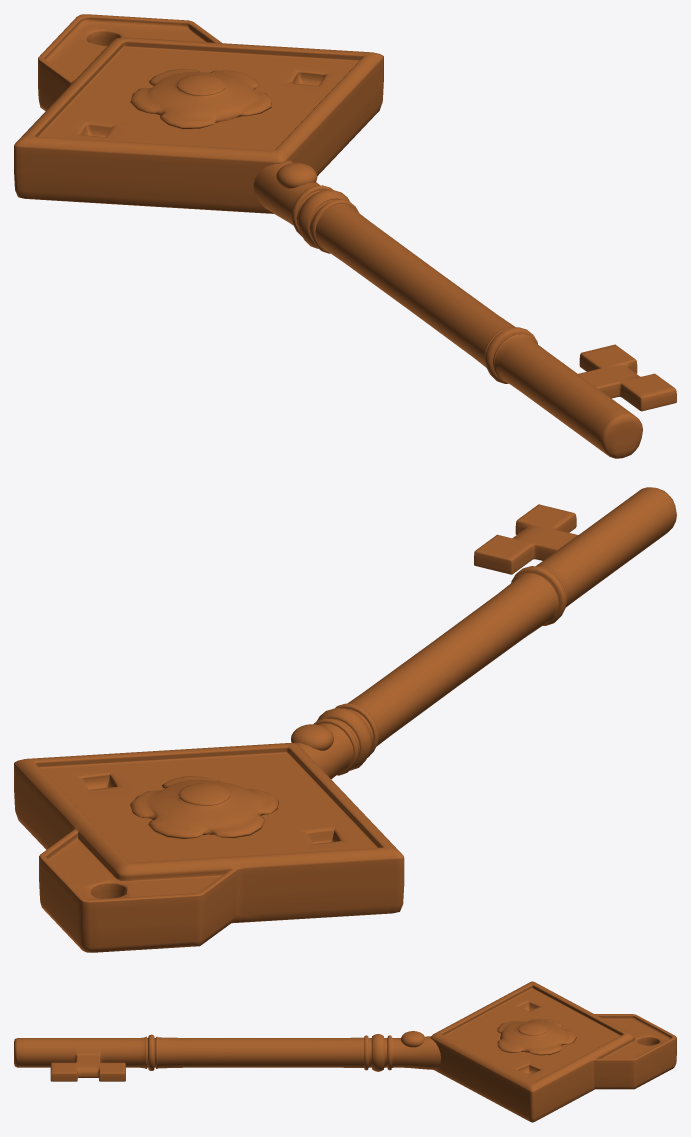
Rendered from Key.fbx.
3 renders of one model, top to bottom at view 1: azimuth 30°, elevation 25°; view 2: azimuth 150°, elevation 25°; view 3: azimuth 270°, elevation 25°, orthographic. The views are drawn at different scales.
Parts seen in each view (by area): view 1: key; view 2: key; view 3: key.
Part boxes in pixels (bbox=[...]): key: bbox=[14, 14, 676, 458]; key: bbox=[14, 487, 676, 952]; key: bbox=[14, 981, 676, 1122].
Bounding box in the file's own units: 1.4 × 0.27 × 3.57.
